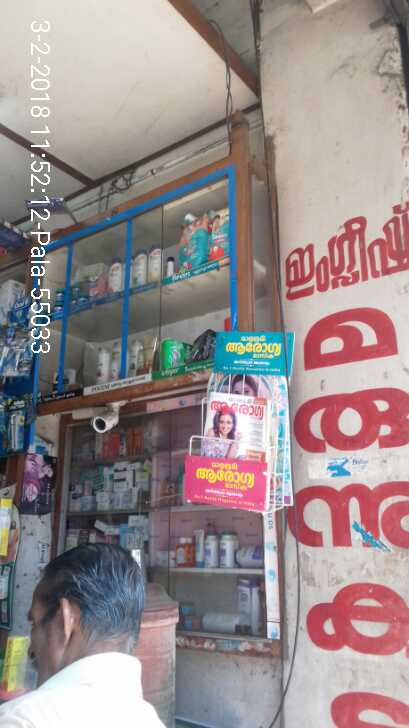oralcare: (1, 290, 43, 389)
vicks: (49, 268, 103, 317)
